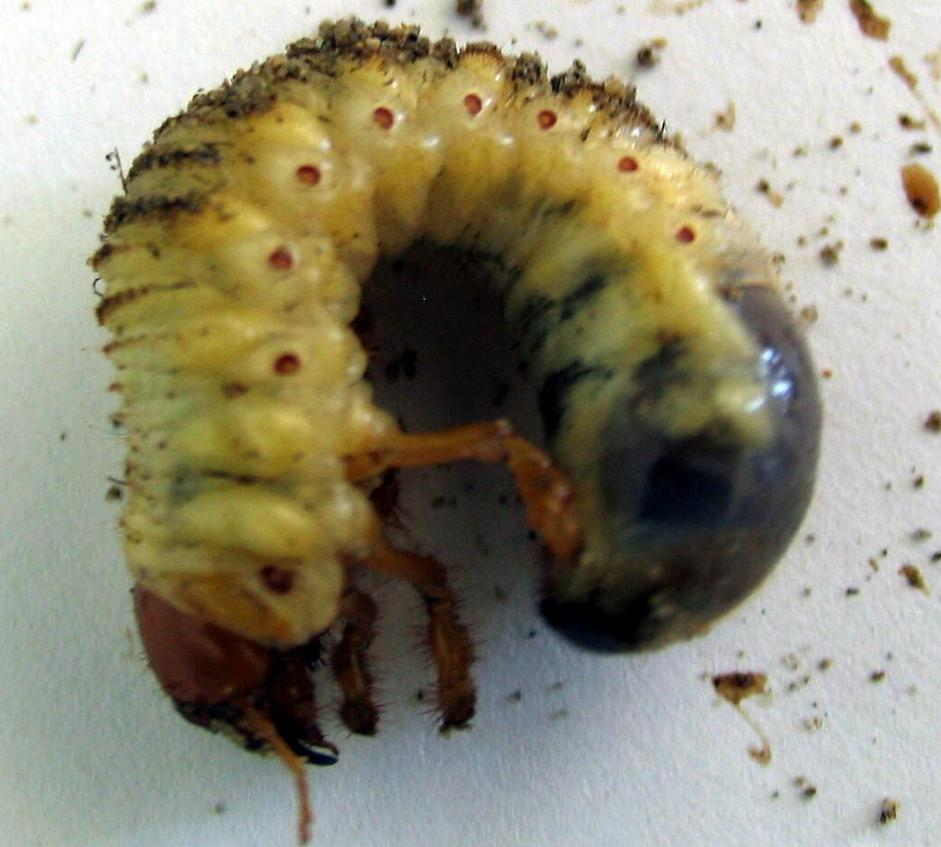grub: (90, 11, 830, 778)
